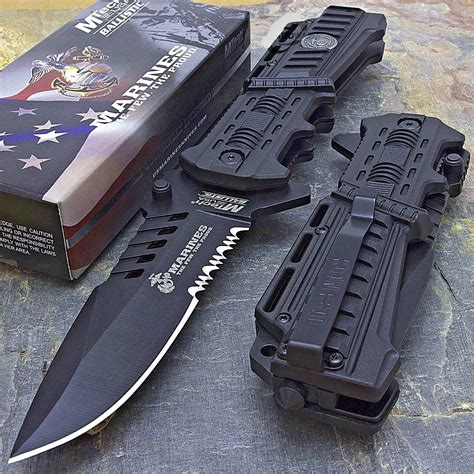knife: (10, 5, 388, 464), (247, 111, 472, 435)
